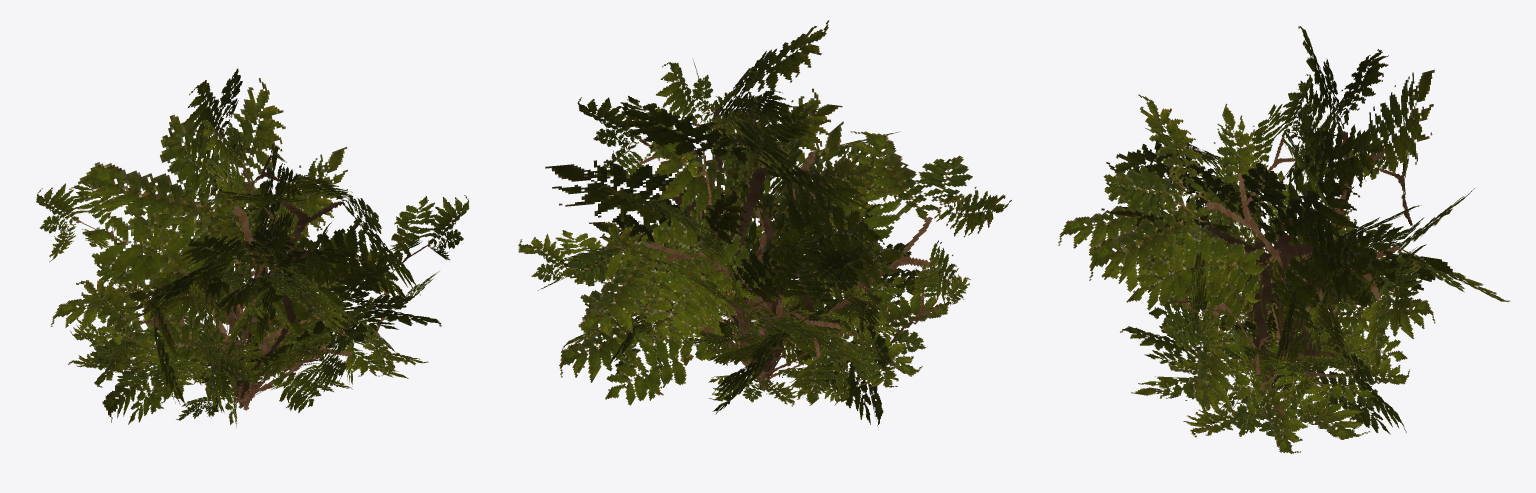
Rendered from bush_01.glb.
3 renders of one model, left to right at view 1: azimuth 30°, elevation 25°; view 2: azimuth 150°, elevation 25°; view 3: azimuth 270°, elevation 25°, orthographic. The views are drawn at different scales.
Parts seen in each view (by area): view 1: bush_01; view 2: bush_01; view 3: bush_01.
Boxes of the visible parts, left/top/right/bottom form: bush_01: left=36, top=68, right=469, bottom=427; bush_01: left=518, top=20, right=1011, bottom=429; bush_01: left=1058, top=26, right=1510, bottom=453.
Size of the model in its own units: 1.25 by 1.17 by 1.15.
Materials: 1 (1 with a texture image).
